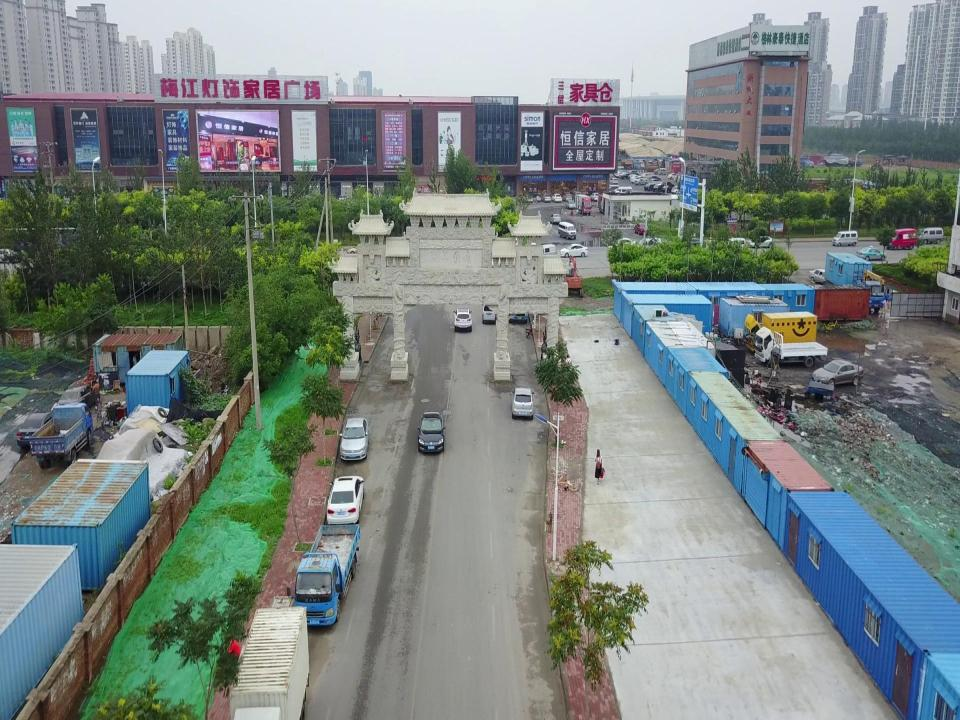car: (326, 475, 365, 526), (16, 411, 60, 449), (55, 385, 101, 419), (812, 360, 864, 390), (338, 416, 370, 462), (417, 411, 447, 454), (511, 387, 535, 420), (855, 246, 887, 262), (675, 238, 707, 254), (453, 307, 473, 332), (808, 268, 835, 286), (607, 238, 636, 254), (559, 244, 589, 257), (748, 236, 775, 249), (0, 248, 18, 262), (633, 223, 651, 235), (648, 178, 664, 188), (671, 186, 687, 195), (652, 183, 668, 192), (644, 183, 659, 191), (662, 181, 675, 190), (662, 185, 676, 193), (674, 175, 690, 182), (590, 192, 601, 202), (522, 194, 534, 203), (549, 214, 561, 223), (628, 173, 641, 181), (552, 193, 562, 203), (565, 199, 575, 209), (541, 194, 552, 203), (634, 178, 648, 185), (620, 173, 634, 180), (649, 176, 661, 184), (636, 176, 648, 184), (631, 176, 644, 183), (563, 193, 573, 202), (628, 170, 640, 177), (615, 171, 627, 178), (614, 170, 626, 177), (608, 177, 618, 185), (668, 173, 680, 179), (653, 169, 665, 175), (338, 195, 346, 203), (641, 173, 651, 179)
truck: (228, 605, 310, 720), (286, 523, 360, 627), (29, 402, 93, 469), (743, 310, 818, 354), (753, 326, 827, 368), (853, 277, 893, 314), (507, 275, 529, 324), (576, 194, 592, 215), (848, 159, 862, 167)
van: (886, 228, 917, 250), (529, 244, 557, 264), (914, 226, 944, 244), (635, 237, 661, 255), (482, 300, 499, 325), (832, 230, 858, 246), (721, 238, 746, 254), (558, 221, 576, 240), (612, 187, 632, 198), (605, 184, 620, 196), (606, 185, 622, 196), (658, 167, 671, 176), (571, 191, 582, 201)
